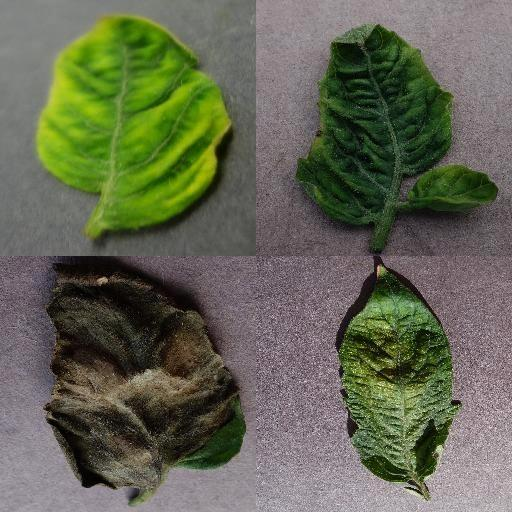Late Blight: (43, 259, 247, 489)
Spider Mites: (338, 263, 464, 485)
Yellow Leaf Curl Virus: (36, 15, 232, 229), (297, 22, 454, 224), (414, 163, 500, 207)
